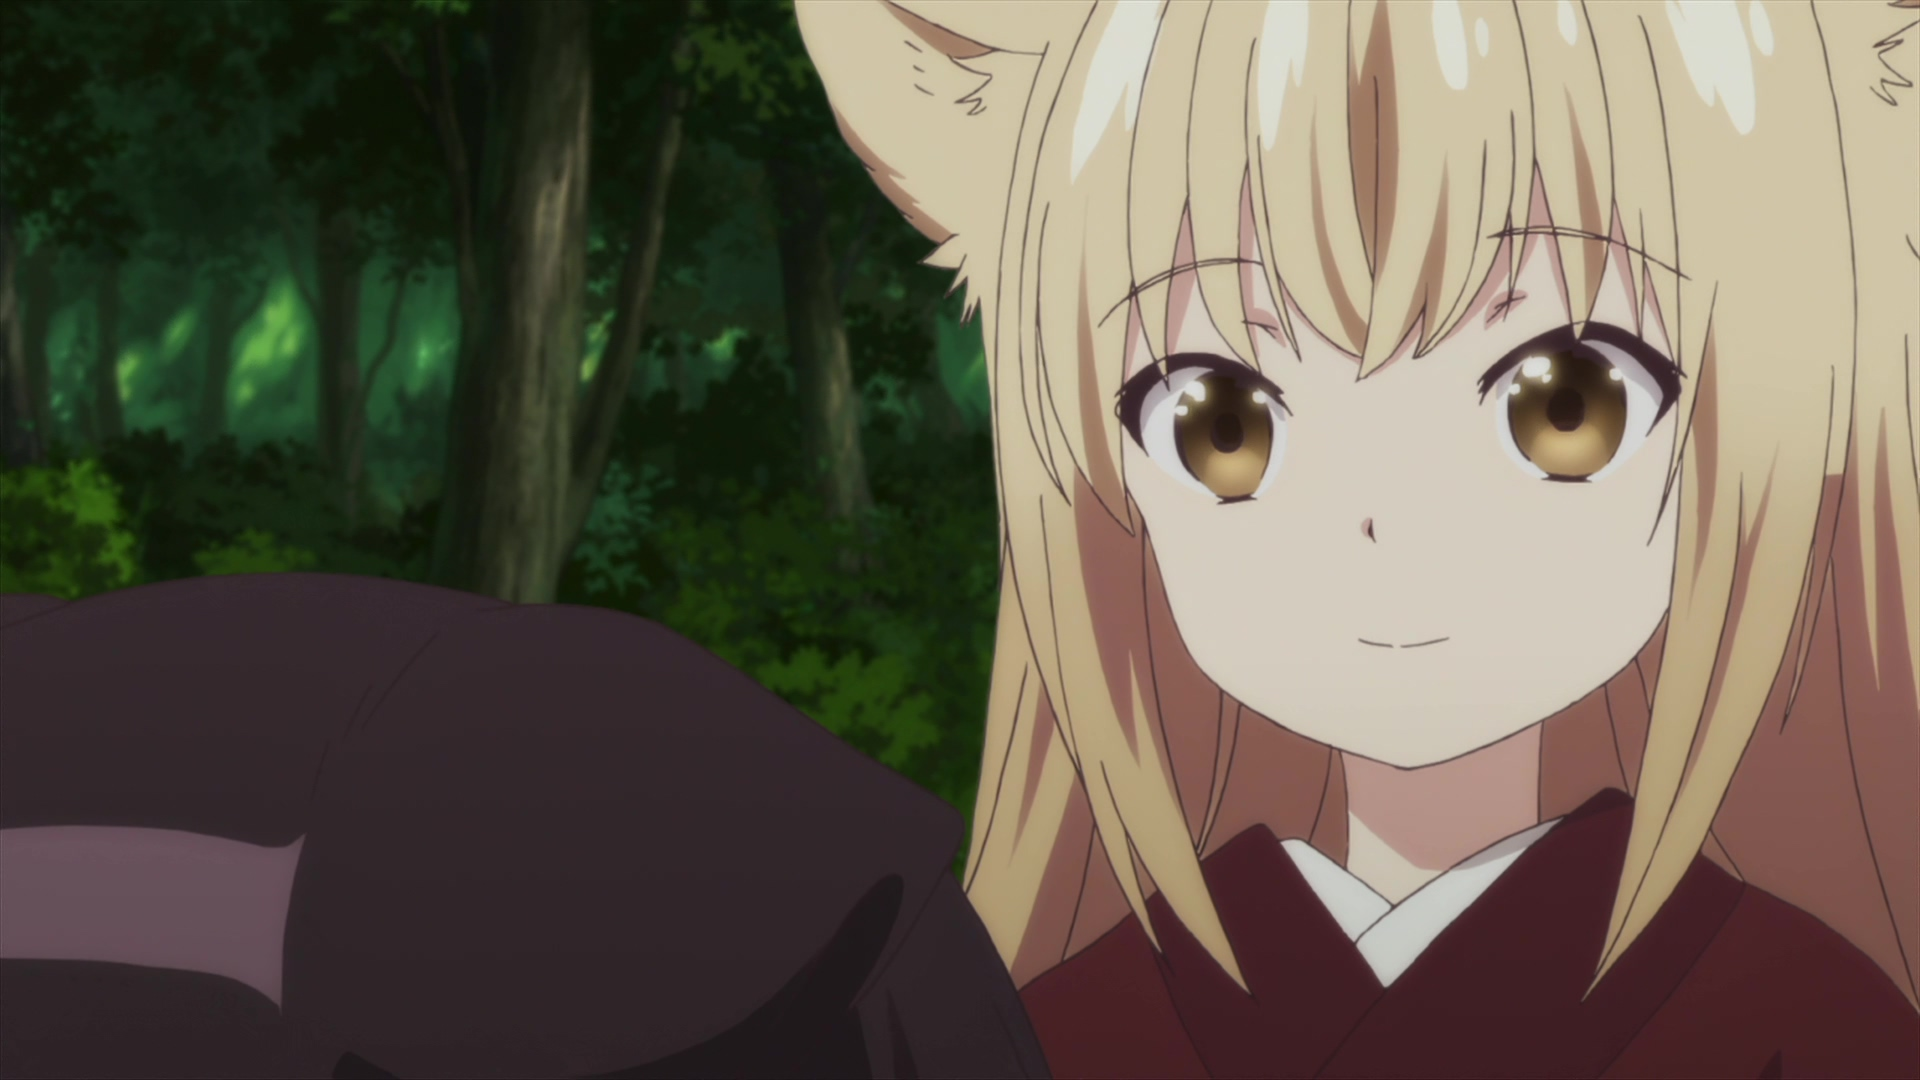不计算: (1, 571, 1052, 1080)
柚: (793, 1, 1920, 1080)
